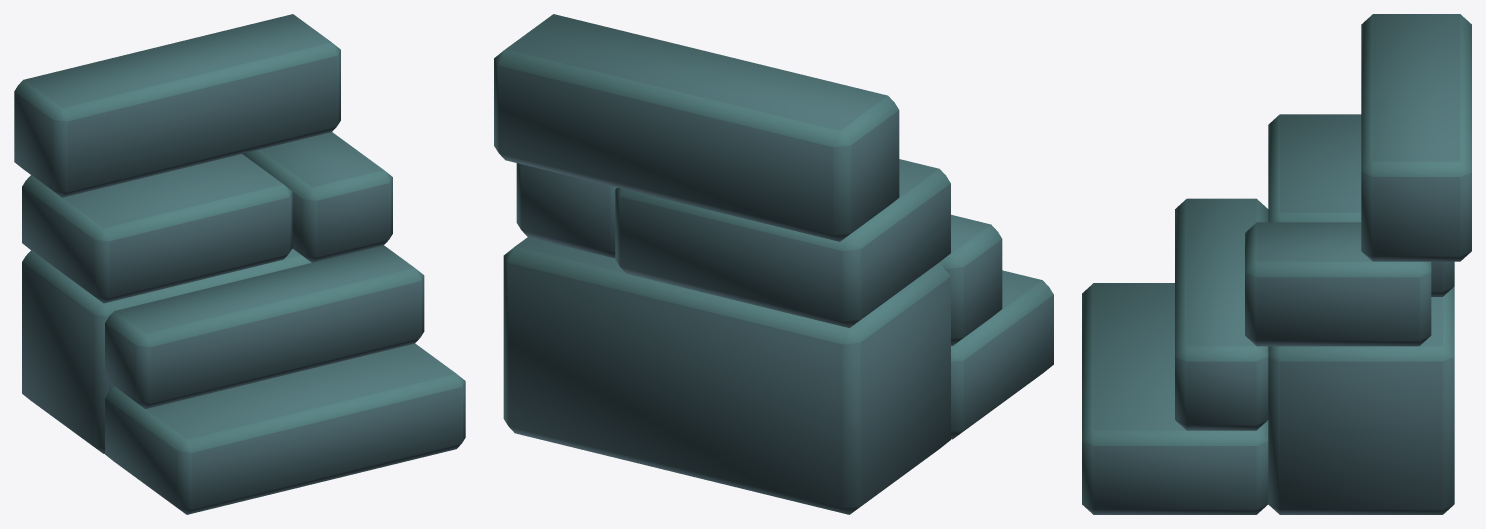
Rendered from stair_straight_1_hue_1.fbx.
3 renders of one model, left to right at view 1: azimuth 30°, elevation 25°; view 2: azimuth 150°, elevation 25°; view 3: azimuth 270°, elevation 25°, orthographic. The views are drawn at different scales.
Parts seen in each view (by area): view 1: stair_straight_1_hue_1; view 2: stair_straight_1_hue_1; view 3: stair_straight_1_hue_1.
Boxes of the visible parts, x1,y1,x2,y2 form: stair_straight_1_hue_1: [14, 14, 465, 514]; stair_straight_1_hue_1: [494, 14, 1053, 514]; stair_straight_1_hue_1: [1082, 14, 1471, 514].
Bounding box in the file's own units: 100 × 105 × 105.
